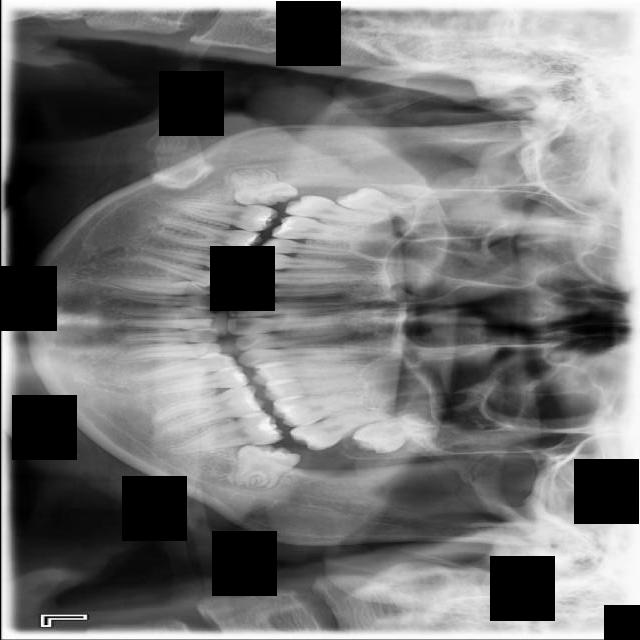3M ESPE Implant: (333, 180, 436, 227)
73: (70, 600, 75, 604)
BioHorizons Implant: (287, 407, 395, 455)
BioLife Implant: (351, 410, 439, 459)
Biomet 3i Implant: (228, 437, 302, 500)
Blue Sky Bio Implant: (165, 409, 284, 458)
Caries: (283, 191, 392, 230)
Implant: (171, 200, 278, 234)
Keystone Dental Implant: (228, 168, 298, 207)
